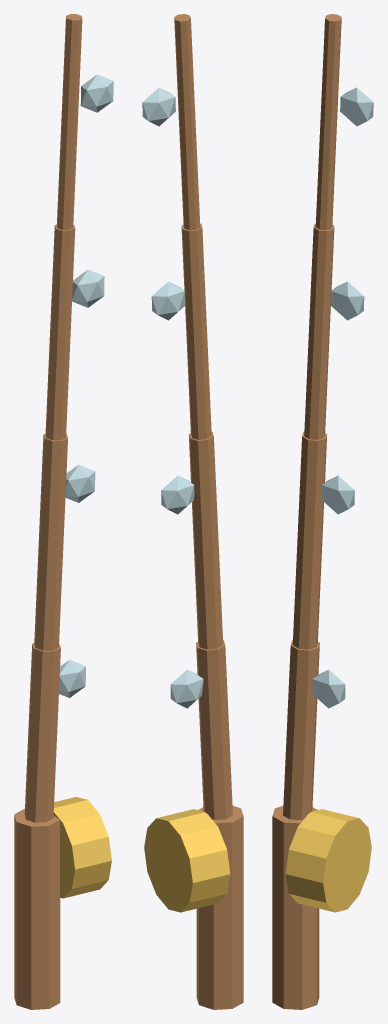
Rendered from rod_wood.glb.
3 views of the same model, side by side, from view 1: azimuth 30°, elevation 25°; view 2: azimuth 210°, elevation 25°; view 3: azimuth 330°, elevation 25° (orthographic).
Parts seen in each view (by area): view 1: rod_wood; view 2: rod_wood; view 3: rod_wood.
Part boxes in pixels (x1,y1,x2,y2): rod_wood: (14,14,113,1009); rod_wood: (142,14,243,1009); rod_wood: (272,14,373,1009).
Bounding box in the file's own units: 0.2108 × 2.02 × 0.18.
